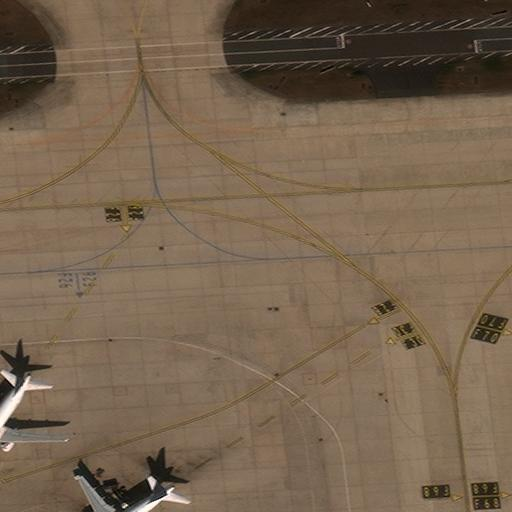Medium Civil Transport: (0, 375, 67, 461), (77, 478, 179, 511)
